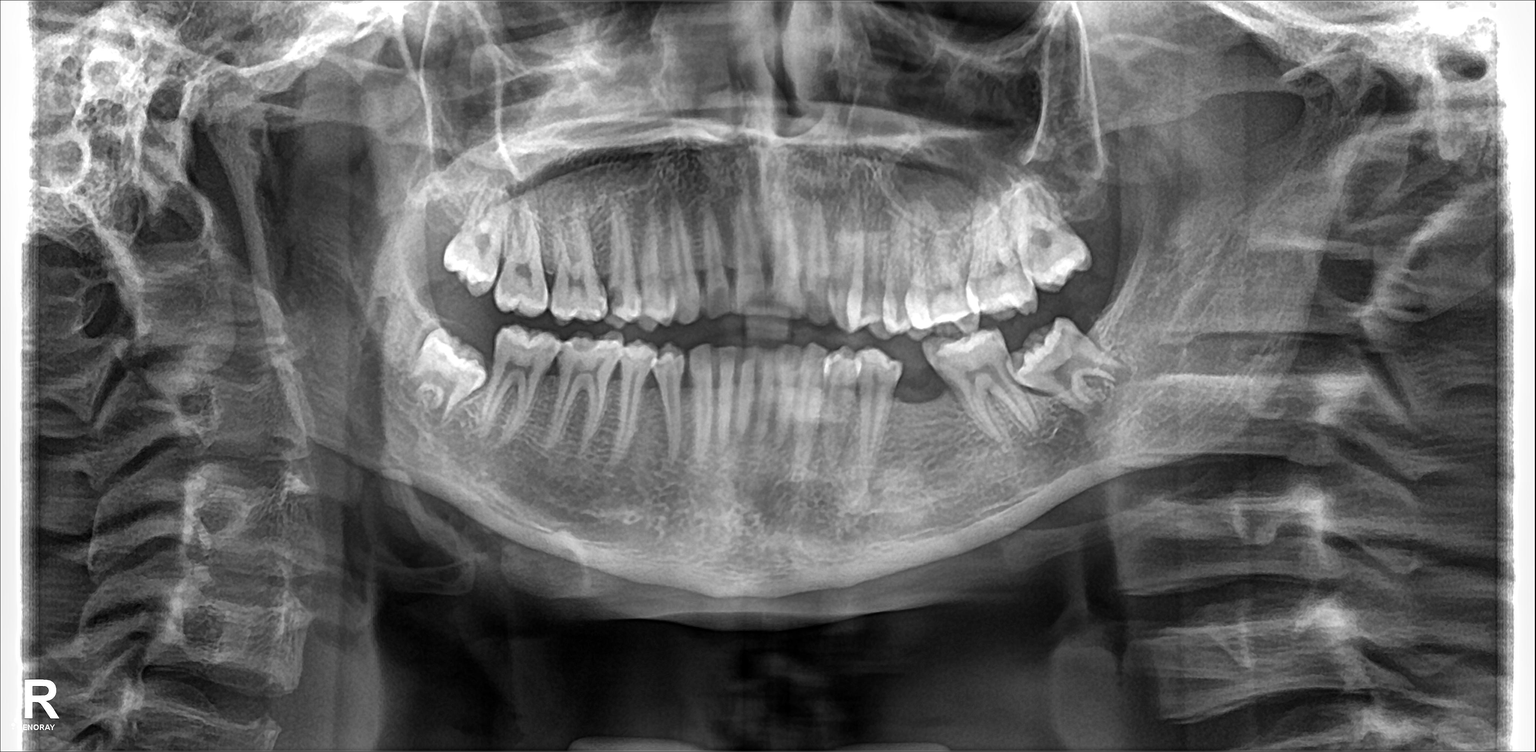Impacted Third Molar: (1028, 328, 1122, 404), (413, 331, 484, 411)
Missing Tooth: (395, 188, 451, 285), (1075, 164, 1114, 280), (899, 354, 942, 441)
